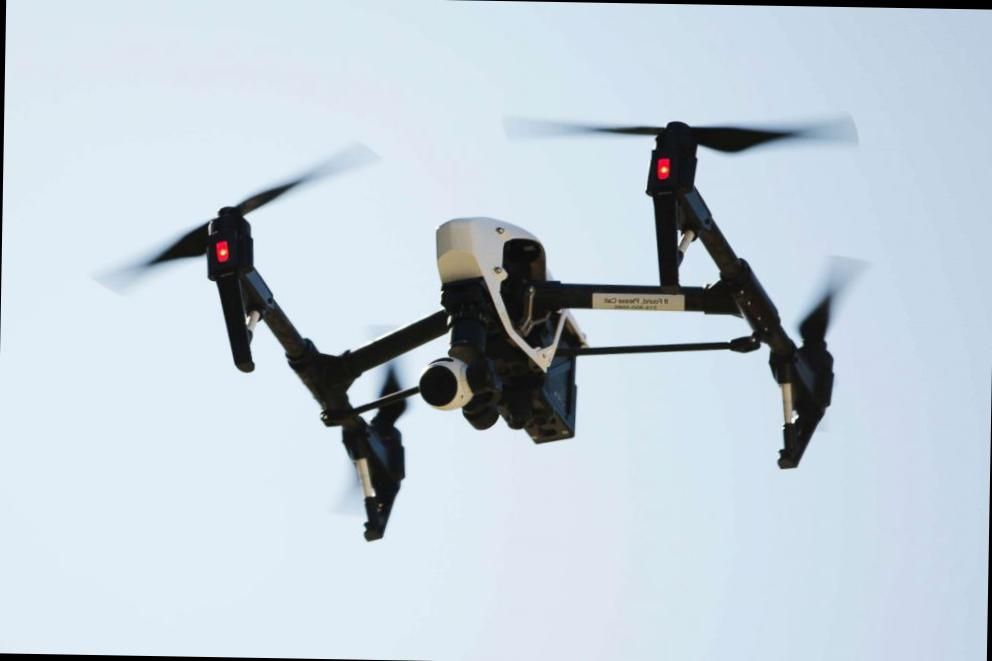drone: (130, 84, 894, 566)
